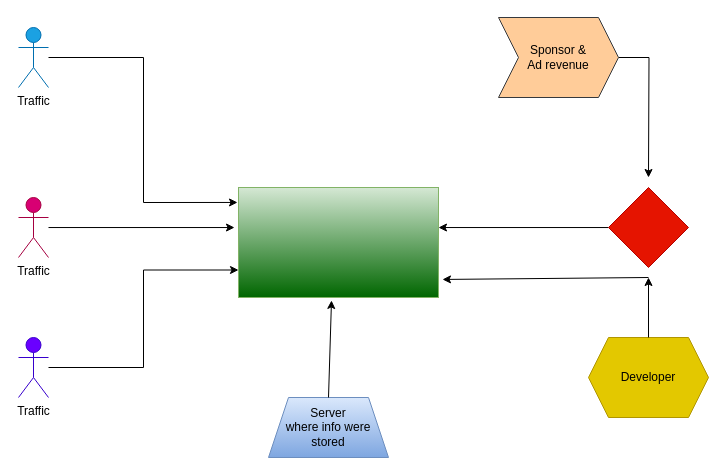
This 726x475 diagram has some shape labels left out. The shapes that lost their labels are listed below. From the top down, each one's centre as x and y in pixels, then its label:
the point at 338,242: Tour Bangladesh
the point at 648,227: Admin
